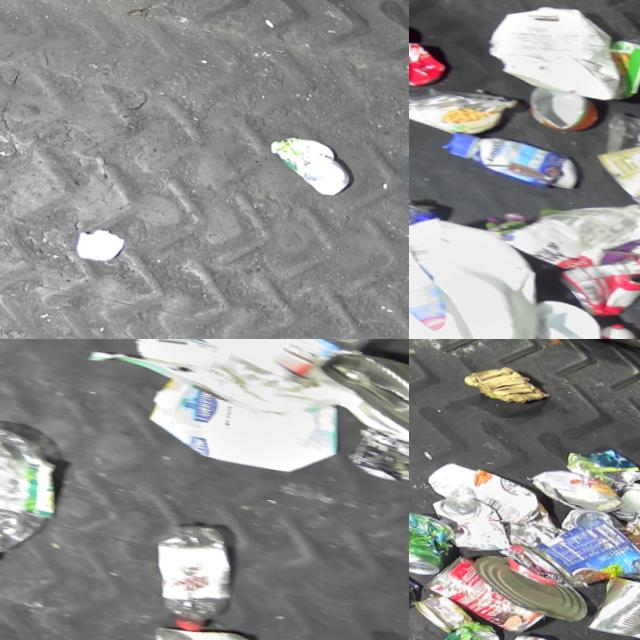can: (305, 342, 409, 463), (422, 549, 561, 636), (524, 505, 640, 602), (468, 551, 601, 623), (553, 237, 640, 328), (424, 491, 523, 558), (516, 76, 610, 140), (526, 464, 632, 517), (587, 120, 640, 215), (587, 570, 640, 640), (409, 509, 461, 579), (351, 424, 409, 486), (413, 589, 482, 637), (409, 31, 457, 97), (151, 614, 269, 640), (561, 504, 628, 539), (427, 612, 507, 640), (616, 509, 640, 586), (610, 476, 640, 526)
milk_jug: (409, 202, 559, 339), (470, 0, 640, 107)
non_white_jug: (409, 289, 572, 339)
plastic_bottle: (140, 514, 251, 637), (0, 410, 78, 575), (223, 339, 397, 405), (602, 104, 640, 185)
